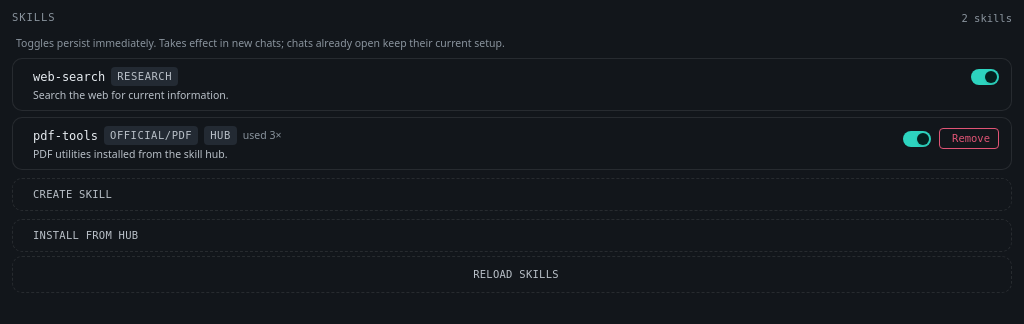
it: SkillsPanel V-11 TOGGLE-HONESTY › a rejected toggle rolls the switch back AND announces the reason through a live region
What coordinates should you click on to do the following:
click the switch named "Enable web-search"
I would click on:
 (985, 77)
Its box is [971, 69, 999, 85].
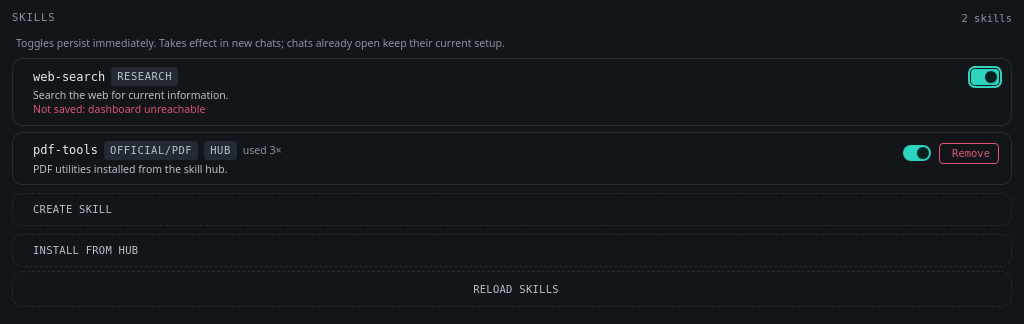
Now the text "Not saved: dashboard unreachable" is shown, box [33, 102, 205, 116]
